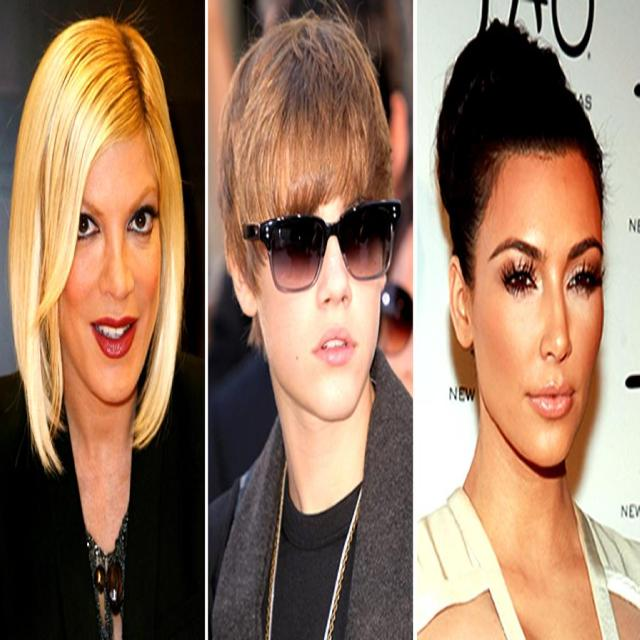Face: (234, 166, 386, 422), (482, 145, 604, 461), (44, 120, 164, 419)
